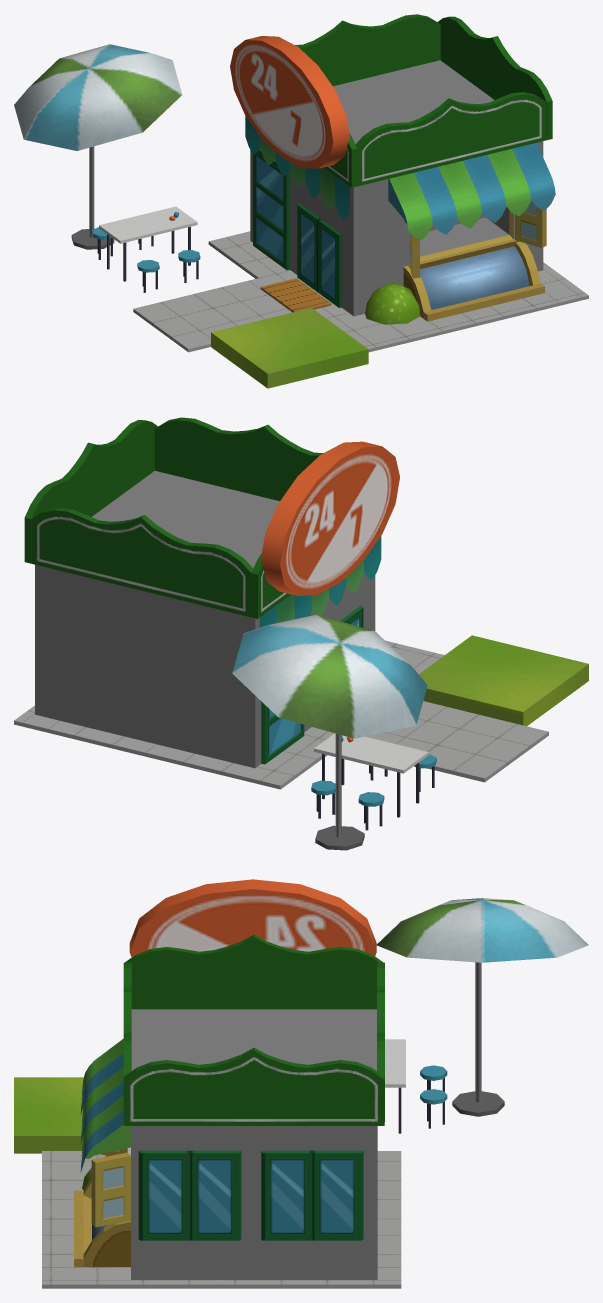
File: tx_xiaomaibumodel_01.fbx
3 views of the same model, one above another, from view 1: azimuth 30°, elevation 25°; view 2: azimuth 150°, elevation 25°; view 3: azimuth 270°, elevation 25° (orthographic). The views are drawn at different scales.
Visible parts, largest first — view 1: tx_xiaomaibumodel_01; view 2: tx_xiaomaibumodel_01; view 3: tx_xiaomaibumodel_01.
Part boxes in pixels (x1,y1,x2,y2): tx_xiaomaibumodel_01: (14, 14, 588, 388); tx_xiaomaibumodel_01: (14, 417, 588, 850); tx_xiaomaibumodel_01: (14, 879, 588, 1288).
Size of the model in its own units: 250 by 148 by 274.
